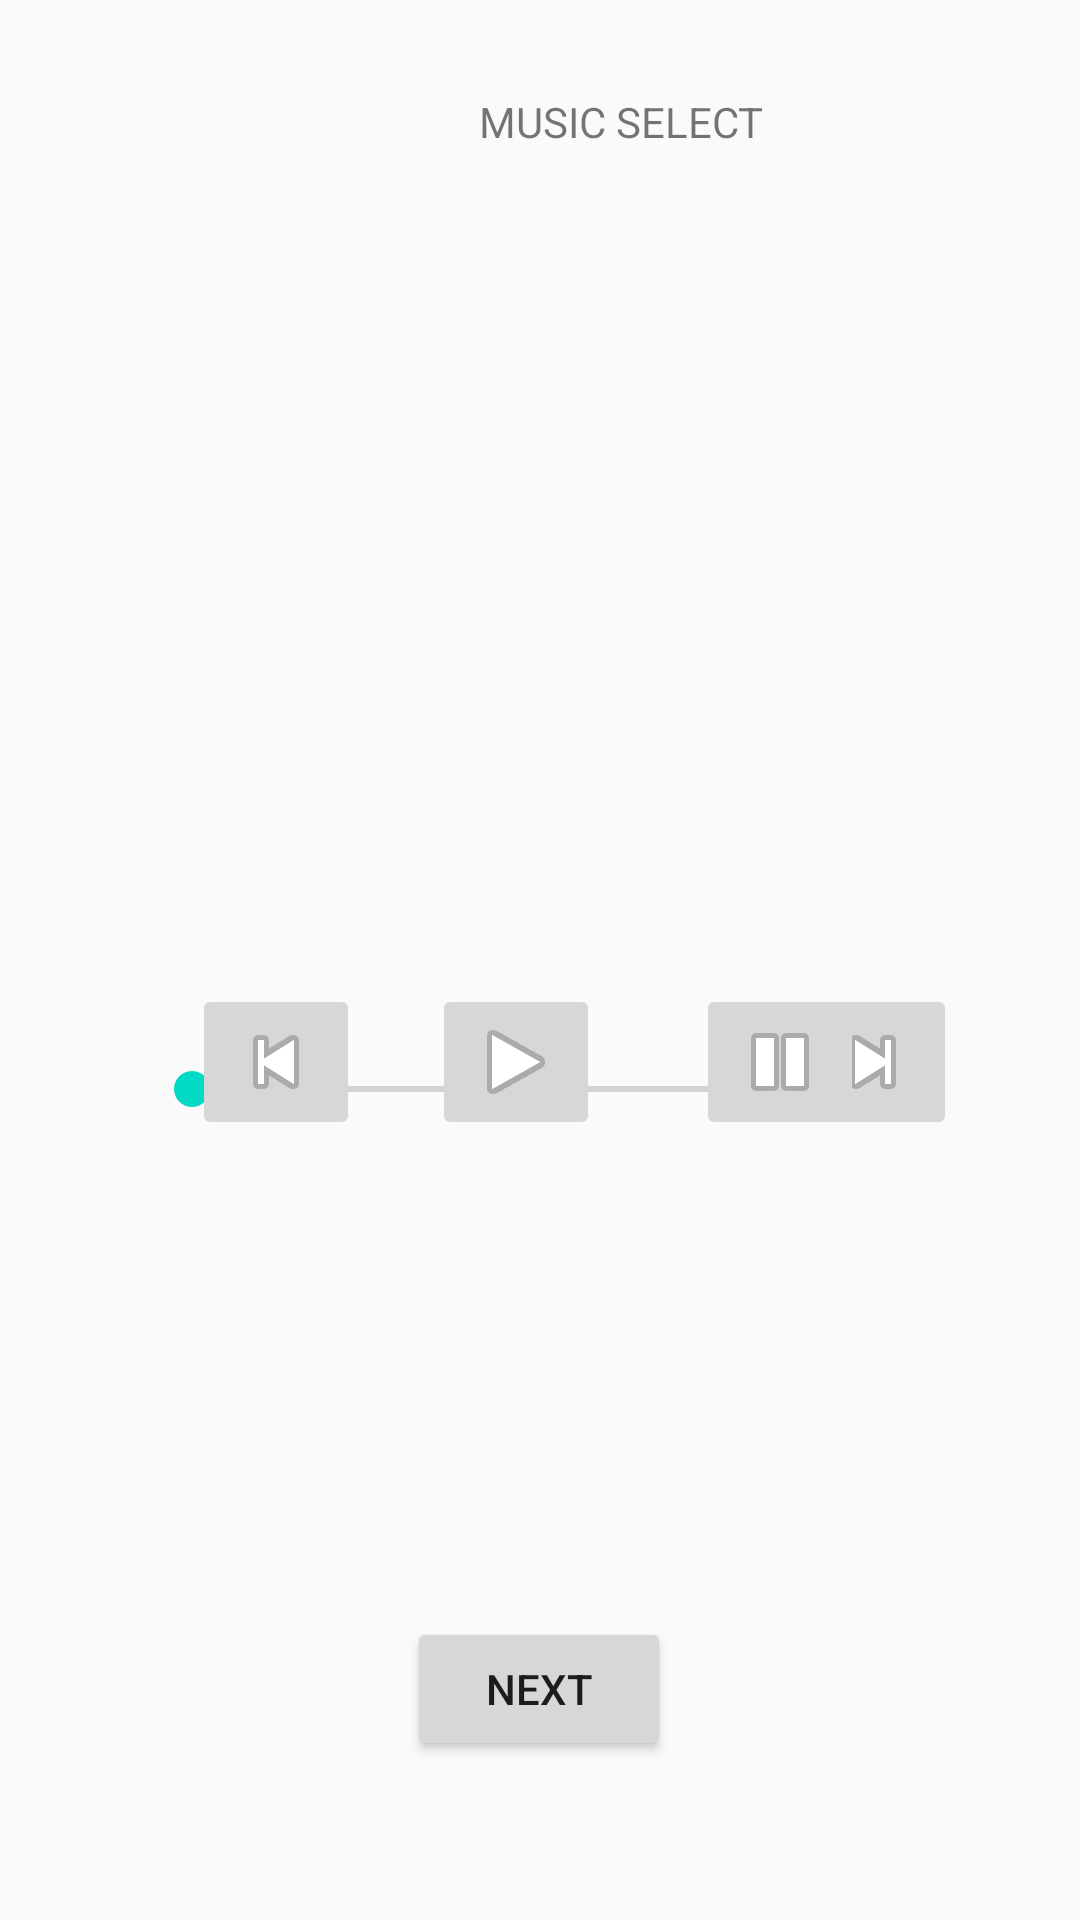

Icon bounding boxes for this 1080 × 1920 phone screenshot, format (x1, y1, x2, y2):
play: (432, 1002, 600, 1122)
previous: (192, 1002, 360, 1122)
